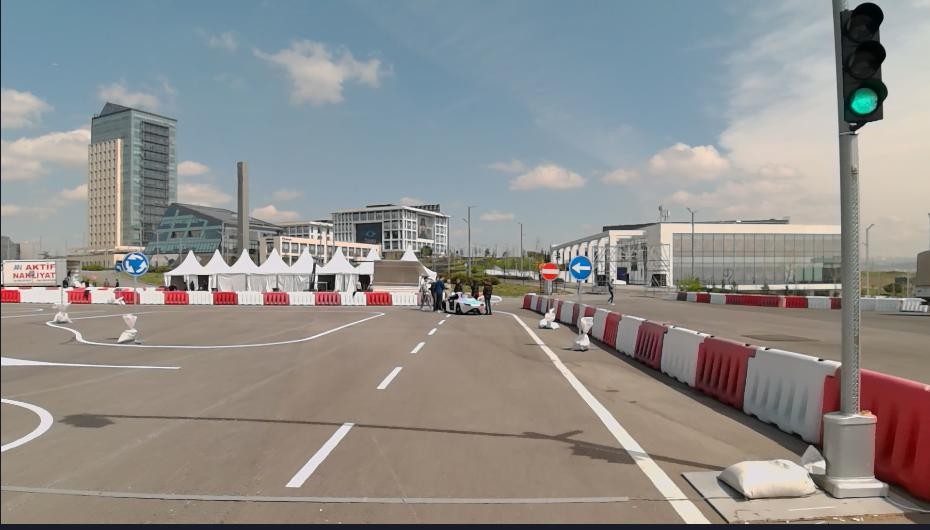nesne: (0, 302, 711, 522), (0, 303, 452, 529), (249, 307, 708, 525), (495, 309, 708, 523), (589, 307, 839, 447), (679, 411, 926, 522), (45, 309, 384, 347), (858, 370, 928, 503), (738, 346, 831, 444), (836, 128, 863, 416), (832, 1, 887, 134), (286, 420, 354, 488), (695, 333, 750, 410), (137, 290, 419, 305), (658, 324, 702, 390), (0, 398, 53, 452), (0, 355, 183, 369), (0, 258, 80, 287), (369, 258, 436, 292), (663, 288, 775, 308), (633, 319, 668, 372), (612, 312, 641, 358), (861, 296, 926, 314), (602, 309, 621, 351), (822, 369, 839, 415), (588, 305, 608, 343), (914, 247, 928, 301), (432, 274, 450, 315), (450, 290, 484, 311), (725, 293, 776, 307), (17, 288, 60, 304), (374, 364, 402, 388), (119, 312, 140, 343), (418, 273, 435, 311), (788, 296, 836, 309), (574, 317, 592, 351), (124, 252, 149, 276), (569, 255, 593, 279), (481, 277, 495, 315), (50, 304, 71, 324), (539, 307, 559, 328), (388, 293, 418, 306), (339, 292, 366, 306), (261, 292, 289, 305), (365, 292, 391, 306), (70, 288, 92, 304), (139, 290, 164, 304), (164, 291, 189, 305), (541, 262, 560, 280), (187, 291, 213, 304), (559, 300, 573, 324), (237, 293, 263, 305), (314, 292, 340, 304), (784, 295, 806, 309), (213, 292, 237, 304), (450, 274, 466, 292), (408, 338, 426, 354), (288, 293, 314, 304), (93, 291, 116, 303), (1, 287, 19, 302), (467, 273, 477, 297), (804, 297, 828, 307), (577, 278, 581, 336), (568, 303, 576, 332), (608, 276, 616, 301), (132, 275, 137, 314), (526, 292, 537, 309), (547, 278, 553, 309), (557, 297, 565, 320), (58, 288, 70, 303), (708, 293, 724, 304), (521, 292, 531, 309), (696, 292, 711, 302), (533, 294, 541, 311), (663, 291, 676, 301), (685, 292, 698, 302), (776, 294, 786, 307), (60, 274, 70, 286), (538, 296, 546, 311), (829, 296, 839, 308), (99, 276, 110, 286), (583, 306, 594, 316), (112, 276, 121, 287), (115, 261, 124, 272), (124, 290, 131, 303), (675, 291, 685, 300), (426, 326, 437, 334), (115, 295, 125, 303), (119, 271, 122, 297), (551, 298, 558, 308), (82, 277, 90, 284), (136, 291, 139, 303)
